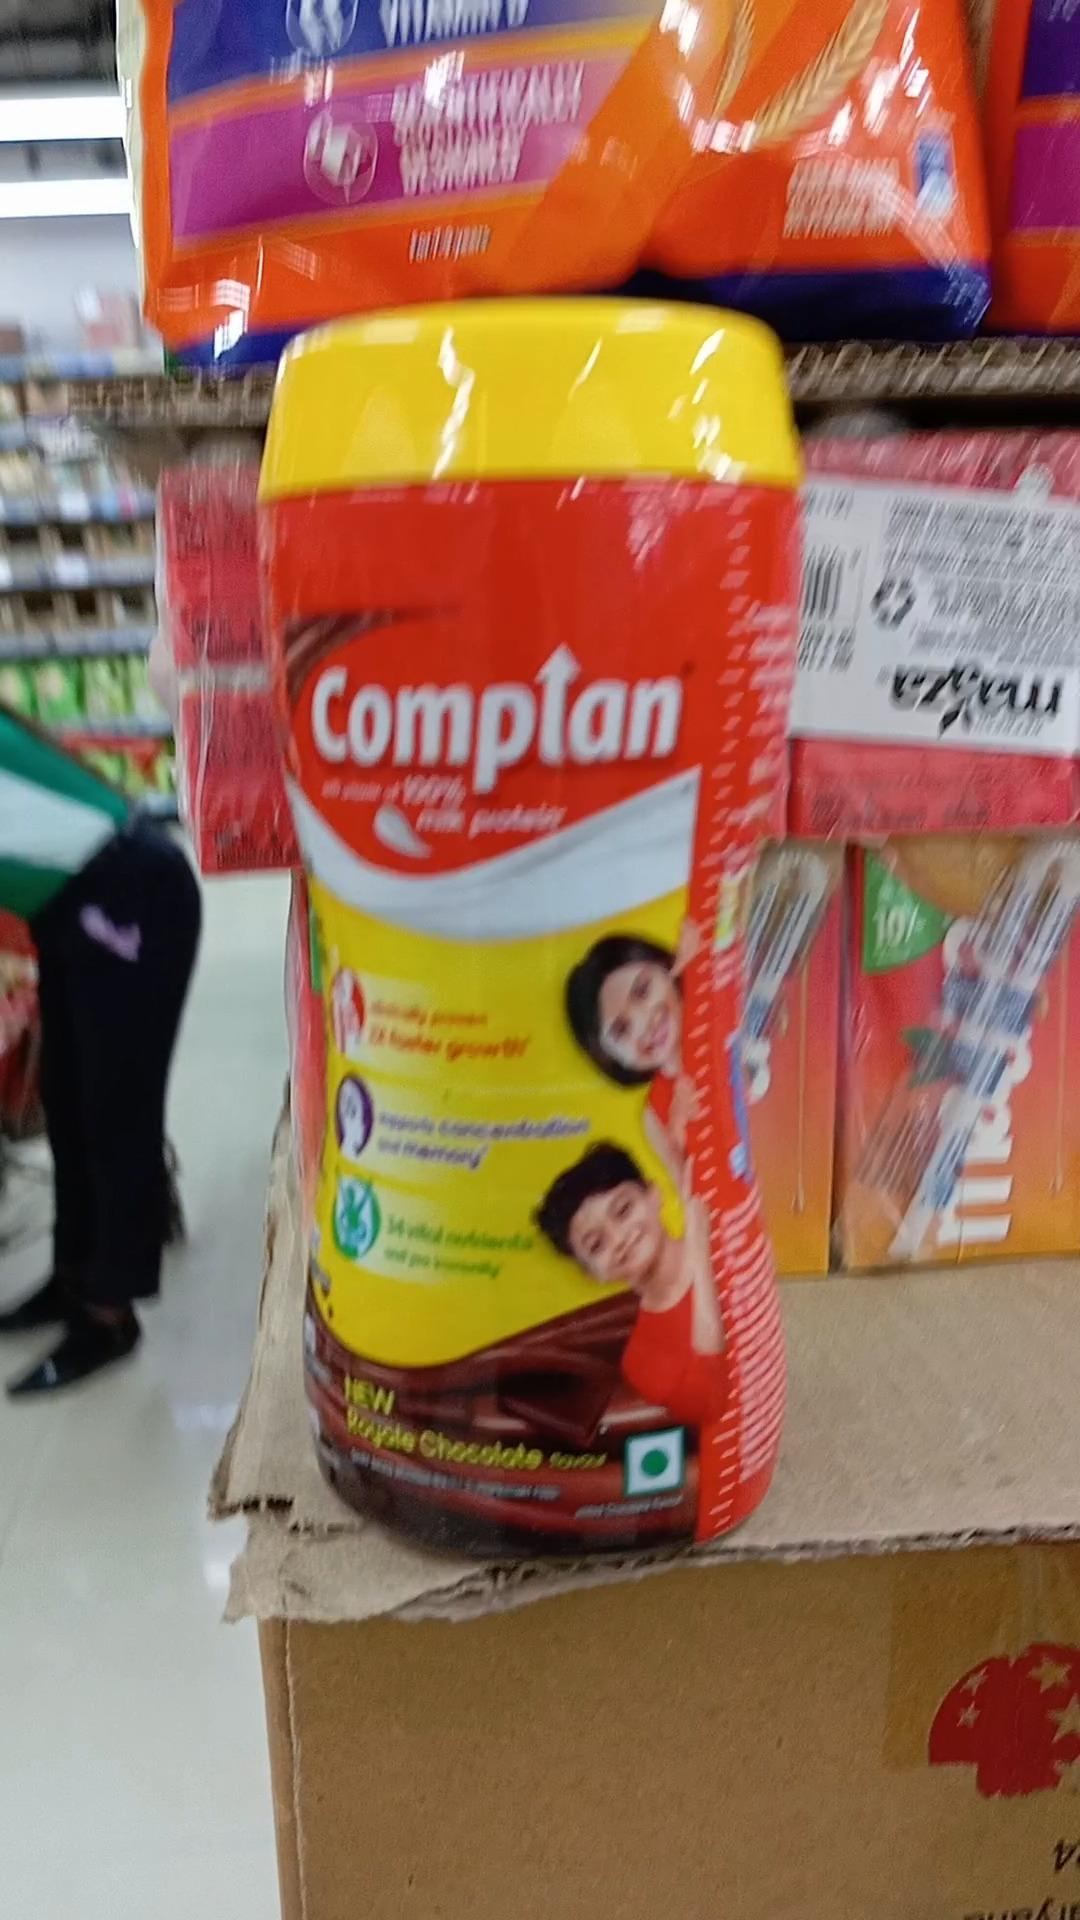COMPLAN_CHOCOLATE_200_GMS_JAR: (255, 299, 758, 1567)
